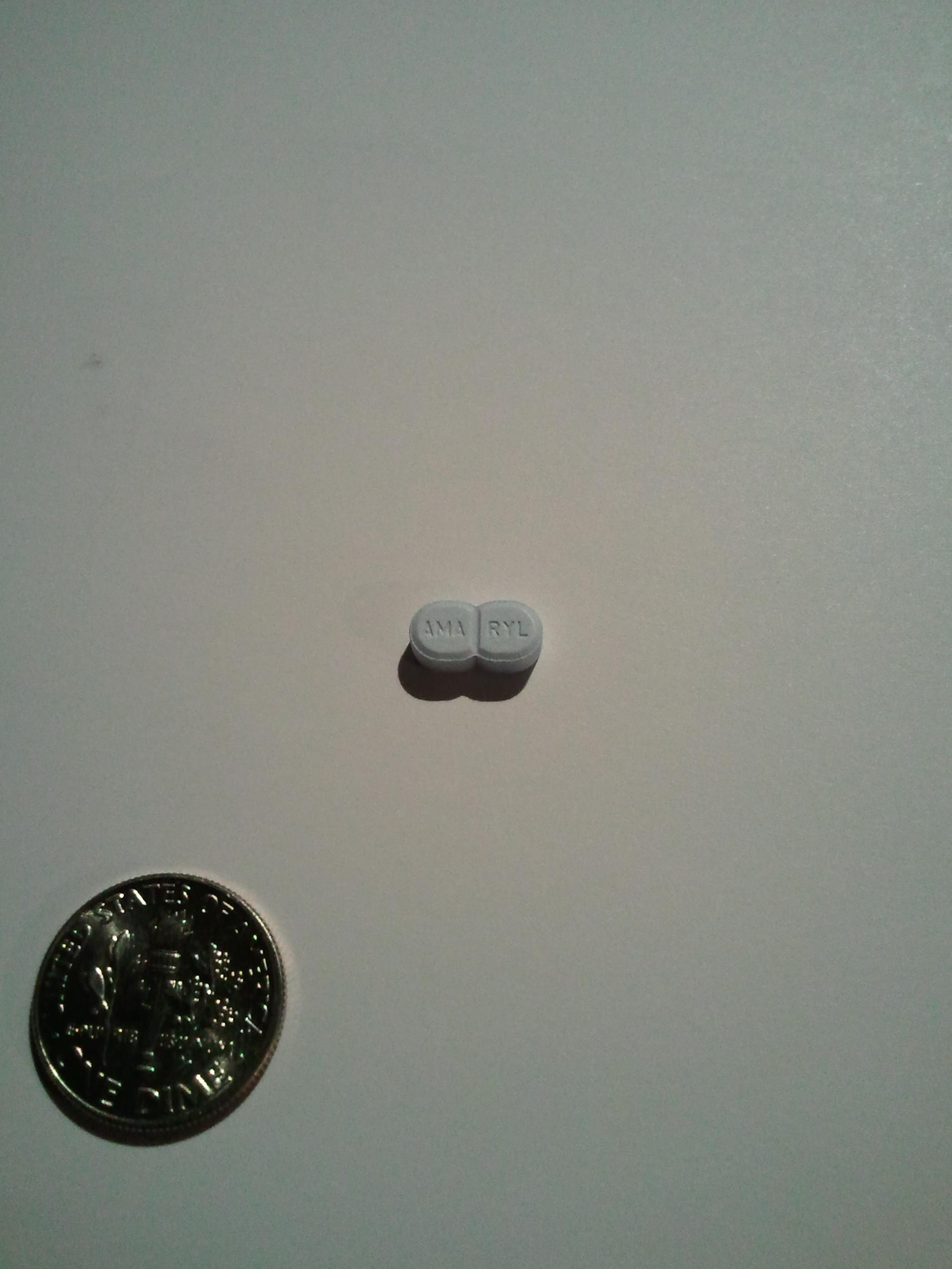Pill: (397, 590, 551, 695)
